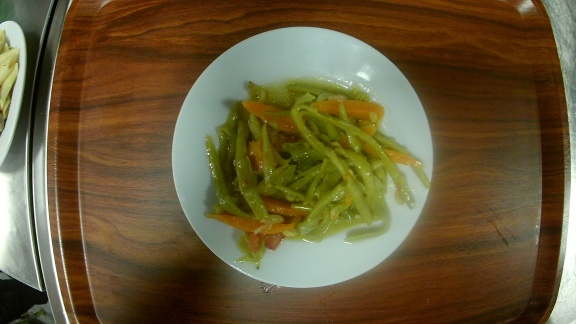tazefasulye: (171, 26, 437, 289)
